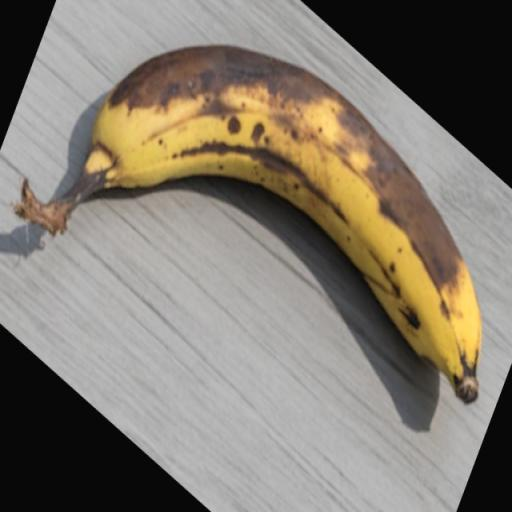banana-overripe: (9, 0, 491, 428)
